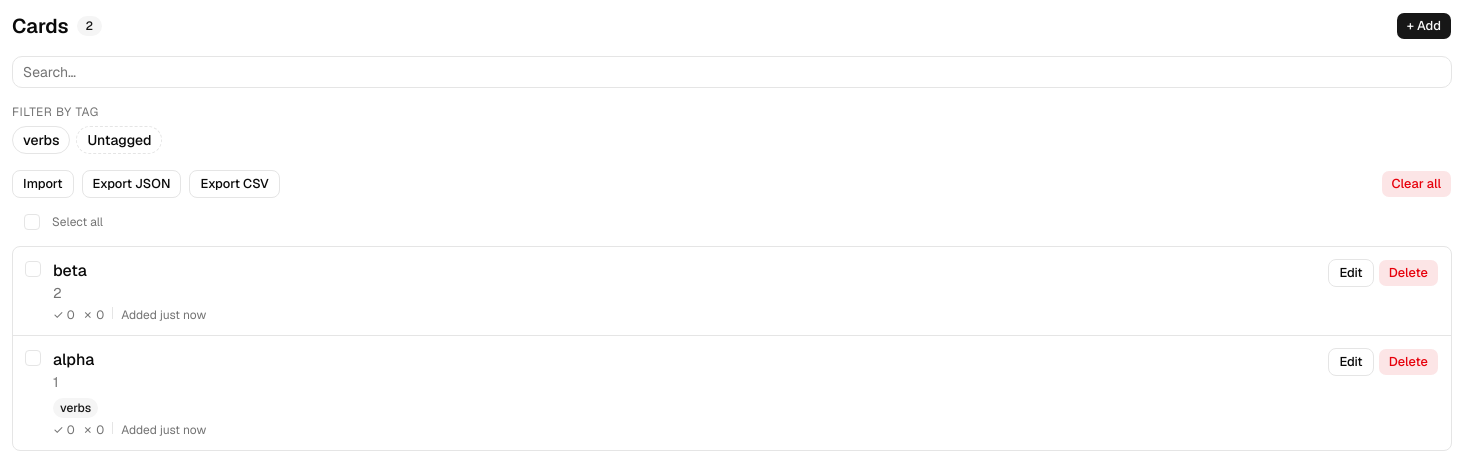
Scenario: CardsPage bulk tagging › Untagged filter shows only untagged cards; picking a tag clears it
What coordinates should you click on to do the following:
click the button "Untagged"
I would click on:
 (119, 140)
Its box is [76,126,162,154].
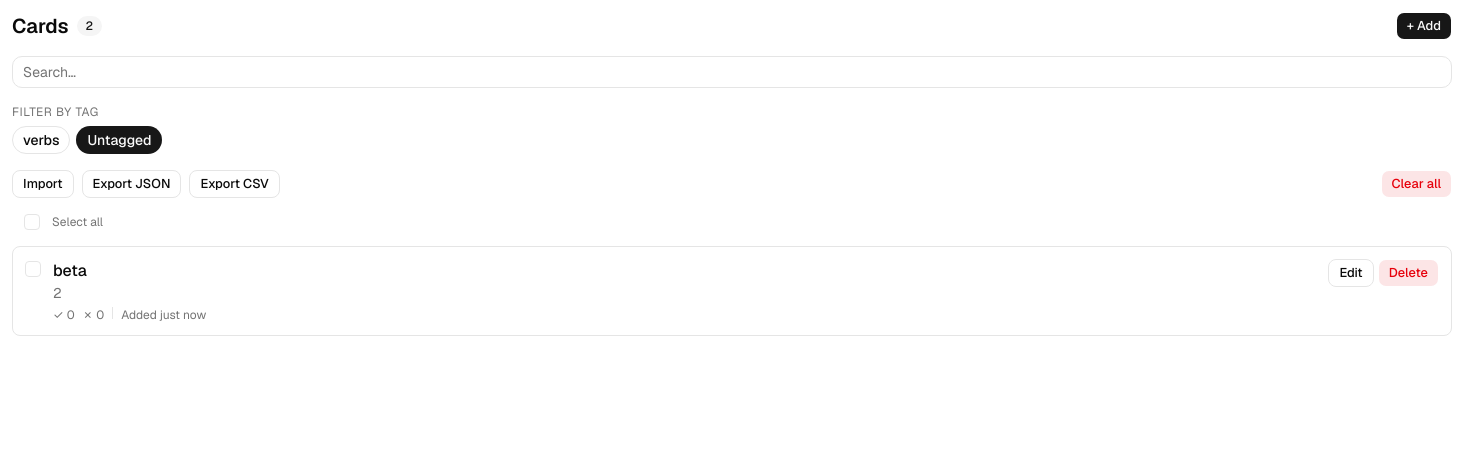
Expected: the text "beta" is shown, [53,260,87,281]
Result: the text "alpha" is gone
Note: Untagged is mutually exclusive with real tags.
What coordinates should you click on to do the following:
click the button "verbs"
I would click on:
 (41, 140)
Its box is [12,126,70,154].
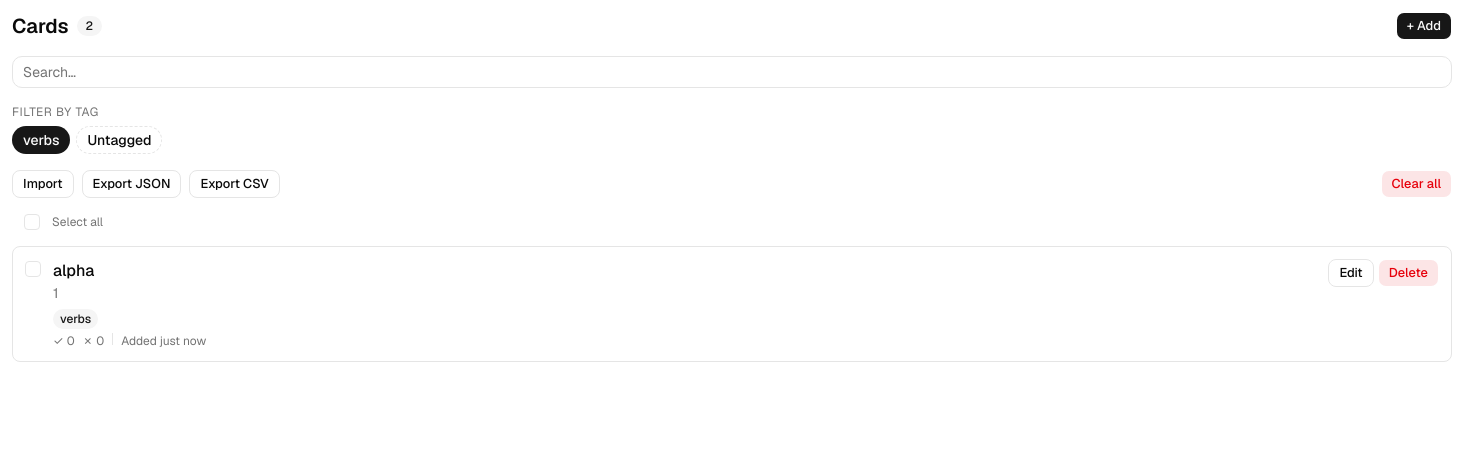
Result: the text "alpha" is shown at [53,260,94,281]
Result: the text "beta" is gone
